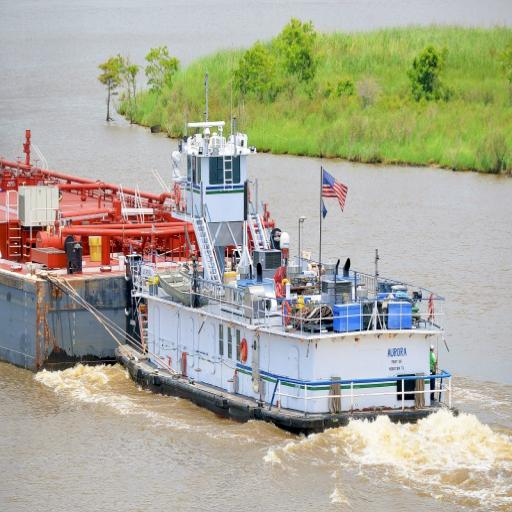tugboat: (115, 116, 463, 449)
